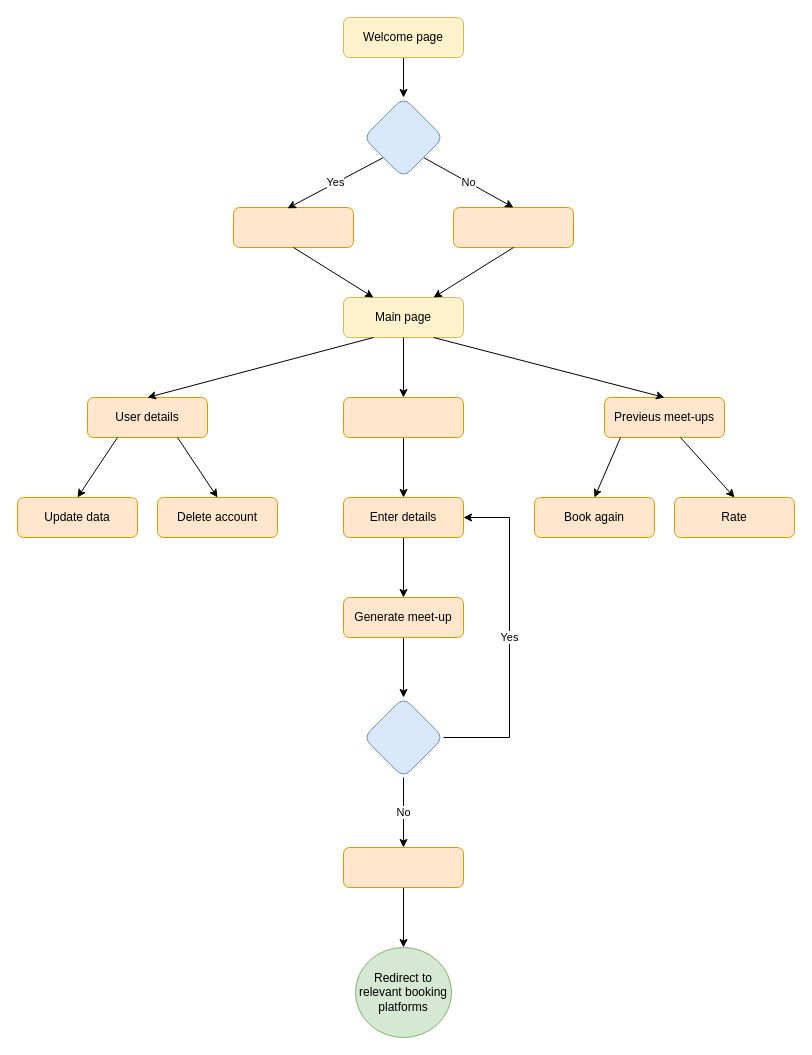
This 812x1055 diagram has some shape labels left out. The centre of each missing label's shape, as x and y in pixels:
Book: (x=403, y=867)
change details?: (x=403, y=737)
Create new user: (x=293, y=227)
Login to existing user: (x=513, y=227)
New meet-up: (x=403, y=417)
New user?: (x=403, y=137)
